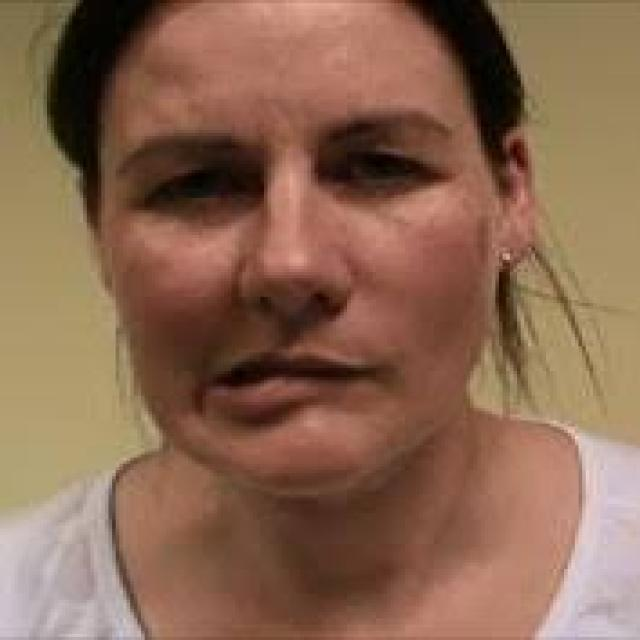stroke_face: (68, 5, 532, 488)
